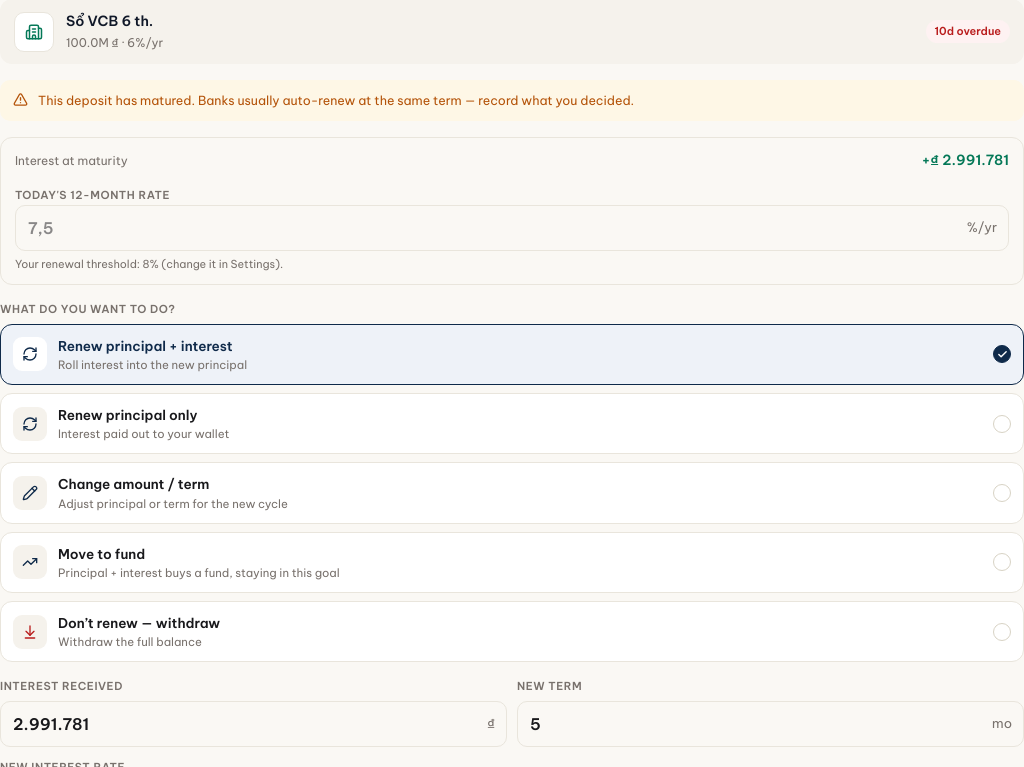
Test: MaturityResolveBody — renew or move to the target fund › asks for a fund when the deposit has no target
Click the button "Move to fund" at (30, 562), box [0,532,1023,593]
(page scrolled)
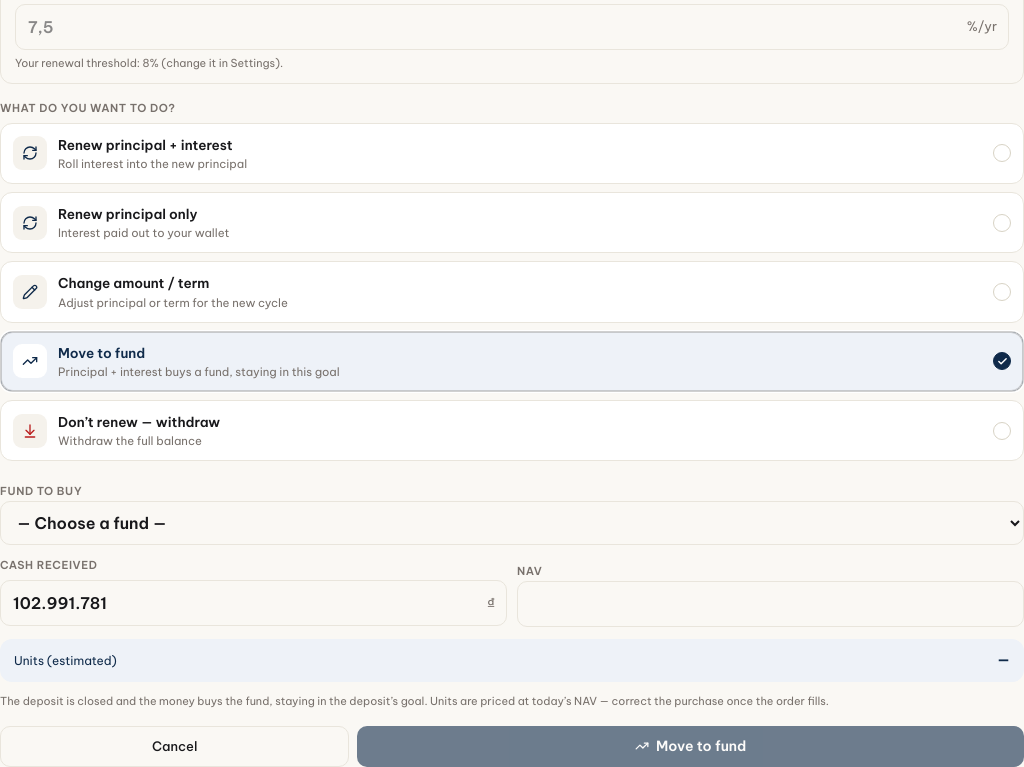
Expected: the dropdown with test id "move-fund-select" shows "— Choose a fund —", [0,501,1023,545]
Expected: the button with test id "maturity-confirm" is disabled, [357,726,1023,766]
